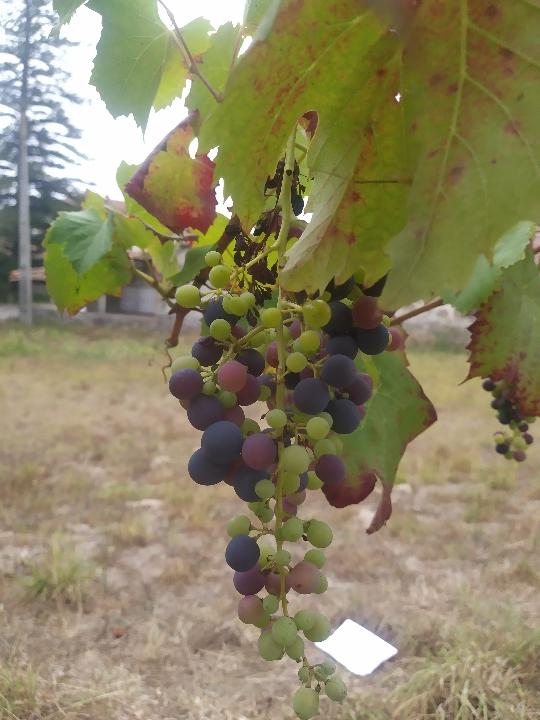grape: (168, 161, 396, 718)
